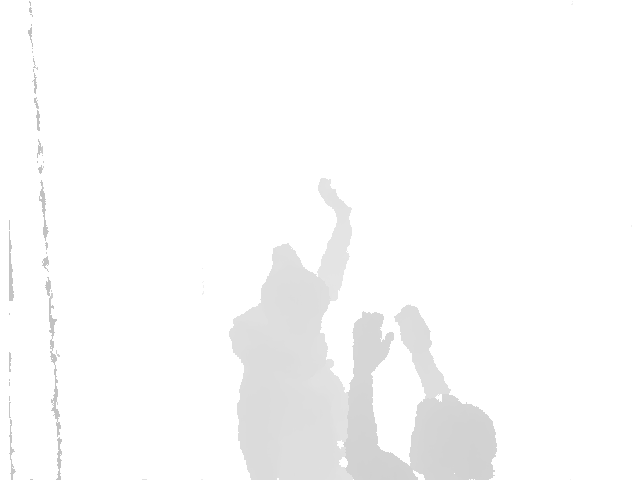hand: (350, 309, 394, 377), (395, 305, 434, 361), (313, 176, 354, 223)
head: (406, 394, 499, 480), (254, 241, 331, 340)
person: (232, 176, 353, 480), (347, 305, 499, 480)
